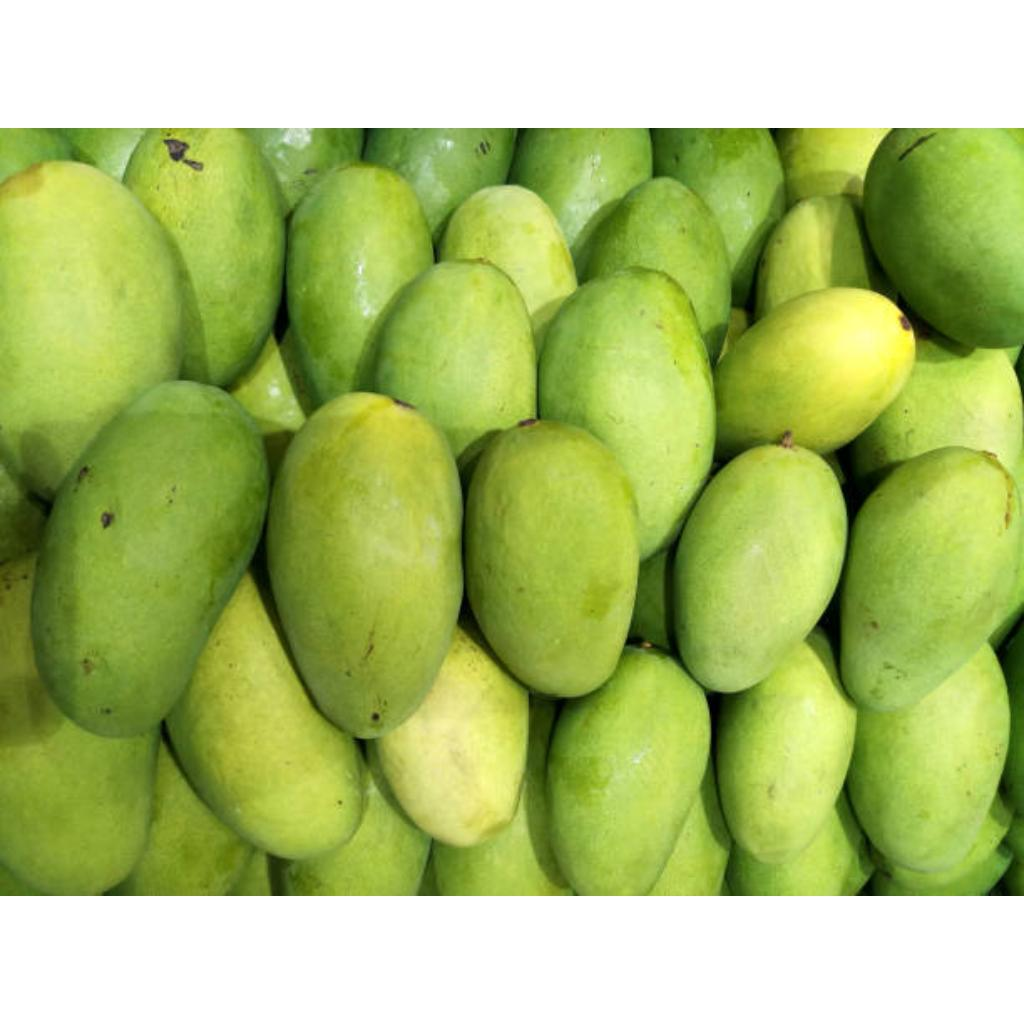mango: (32, 382, 268, 736), (266, 392, 462, 738), (0, 160, 184, 499), (166, 572, 360, 858), (538, 268, 716, 557), (464, 420, 638, 697), (840, 446, 1018, 711), (672, 442, 848, 691), (548, 646, 710, 894), (124, 128, 280, 385), (848, 644, 1008, 871), (288, 162, 434, 404), (864, 128, 1024, 347), (714, 288, 914, 457), (376, 626, 530, 845), (718, 632, 856, 863), (374, 260, 536, 455), (0, 718, 158, 894), (850, 332, 1022, 487), (588, 178, 732, 361), (438, 184, 578, 351), (654, 128, 786, 305), (510, 128, 652, 279), (754, 196, 872, 317)
